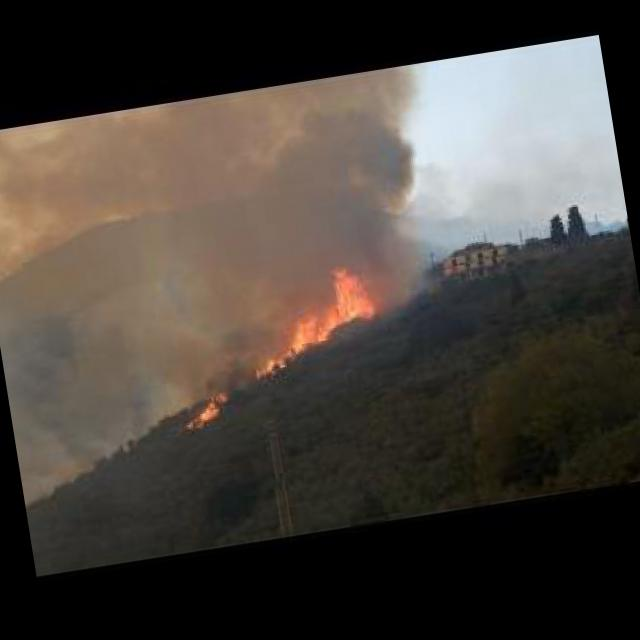fire: (239, 252, 387, 380), (182, 390, 233, 428)
smoke: (0, 61, 480, 446)
